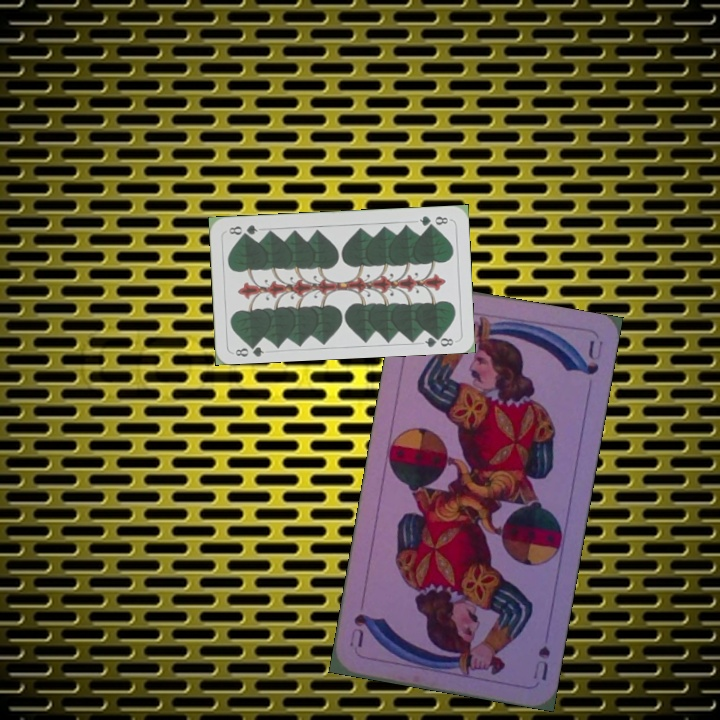G8: (231, 339, 266, 359), (415, 212, 451, 229)
SU: (529, 641, 553, 684)
